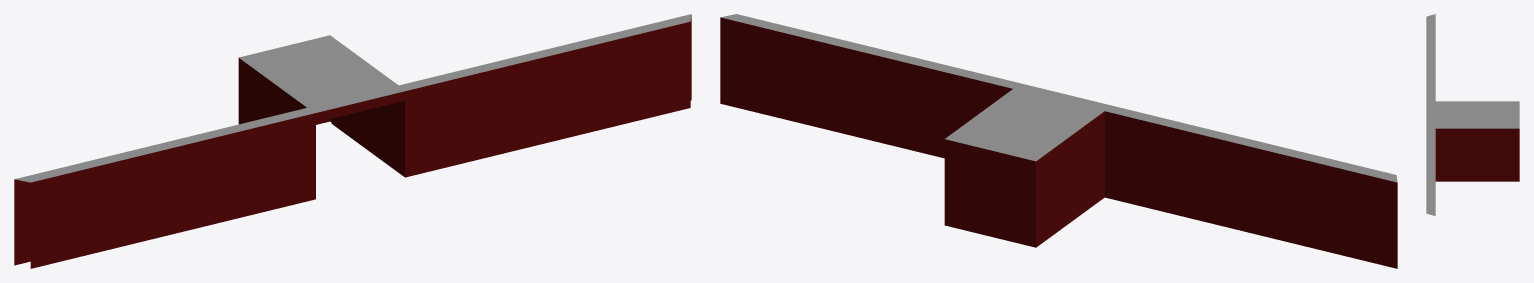
File: WallShort.FBX
The picture shows the model from 3 angles, left to right: view 1: azimuth 30°, elevation 25°; view 2: azimuth 150°, elevation 25°; view 3: azimuth 270°, elevation 25°; orthographic projection. The views are drawn at different scales.
Parts seen in each view (by area): view 1: Wall04; view 2: Wall04; view 3: Wall04.
Part boxes in pixels (box(x1,y1,x2,y2)): Wall04: box(14, 14, 691, 268); Wall04: box(720, 14, 1397, 268); Wall04: box(1426, 14, 1519, 215).
Size of the model in its own units: 41057 by 5000 by 8000.
